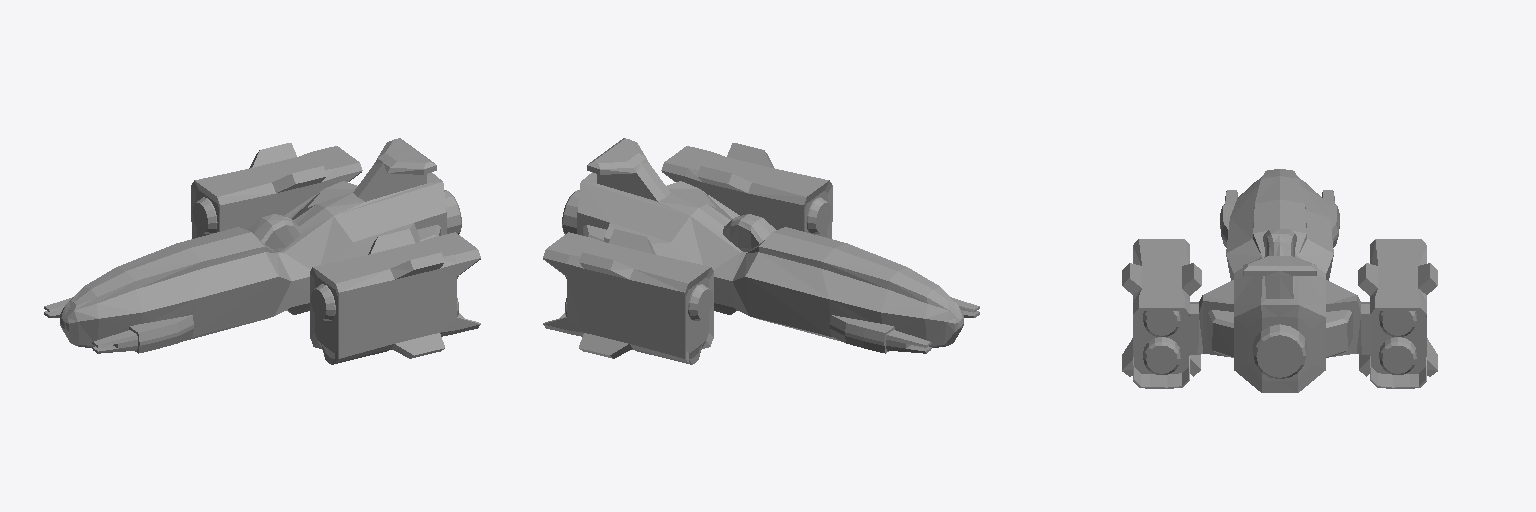
The model's file is EOC_fighter.obj.
The picture shows the model from 3 angles: view 1: azimuth 30°, elevation 25°; view 2: azimuth 150°, elevation 25°; view 3: azimuth 270°, elevation 25°; orthographic projection.
Visible parts, largest first — view 1: EOC_Fighter.002_Plane.010; view 2: EOC_Fighter.002_Plane.010; view 3: EOC_Fighter.002_Plane.010.
Part boxes in pixels (x1,y1,x2,y2): EOC_Fighter.002_Plane.010: (44,138,480,364); EOC_Fighter.002_Plane.010: (543,138,979,364); EOC_Fighter.002_Plane.010: (1122,169,1437,392).
Bounding box in the file's own units: 13.5 × 4.48 × 9.53.